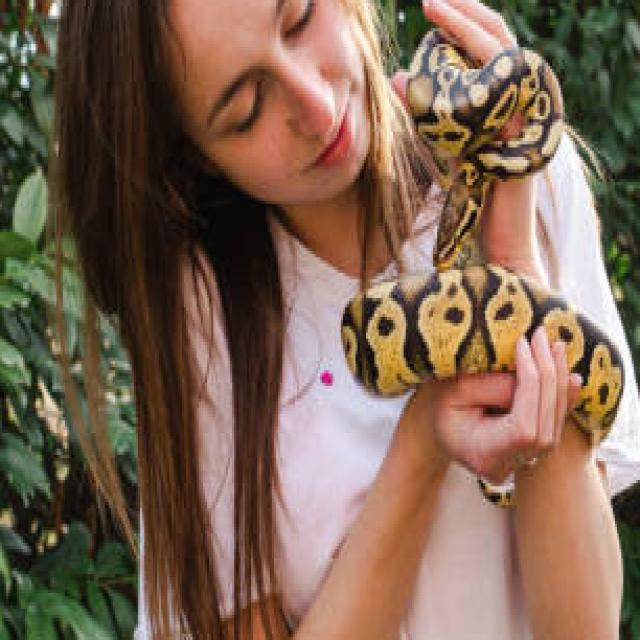Snake: (339, 22, 625, 452)
